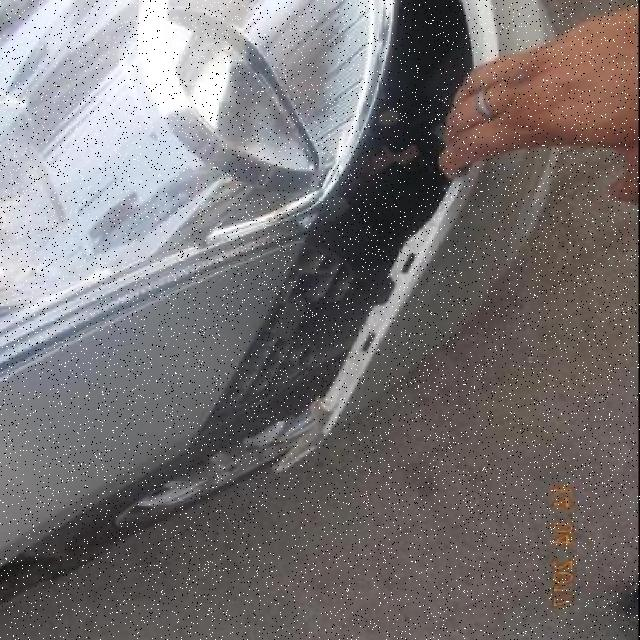damage: (193, 0, 476, 472)
